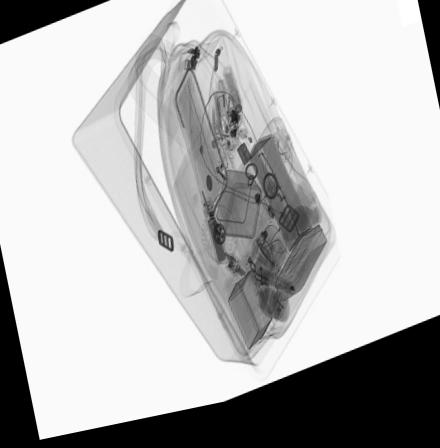Powerbank: (199, 205, 228, 273)
